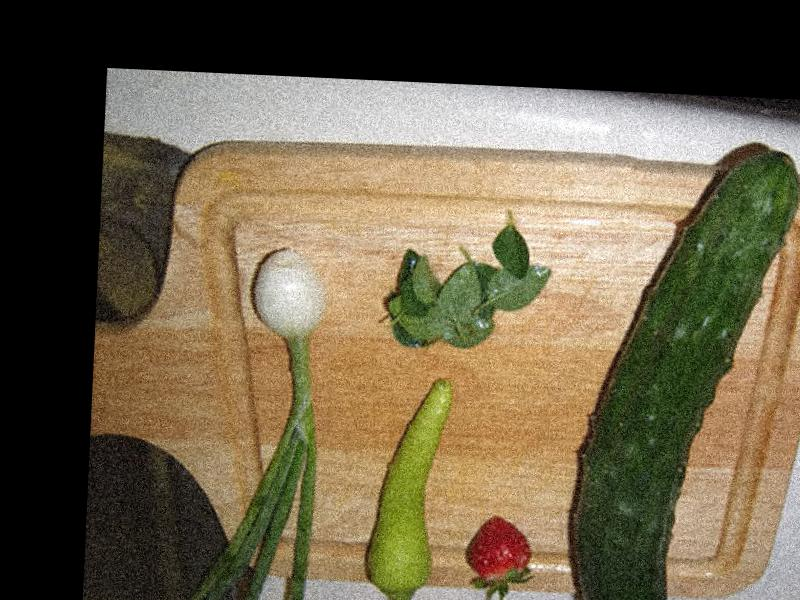Cucumber: (568, 142, 800, 600)
